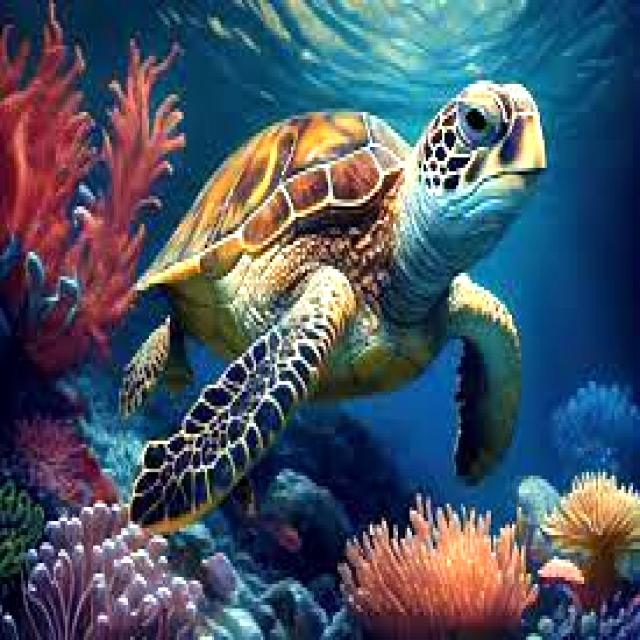Sea turtle: (116, 76, 551, 534)
